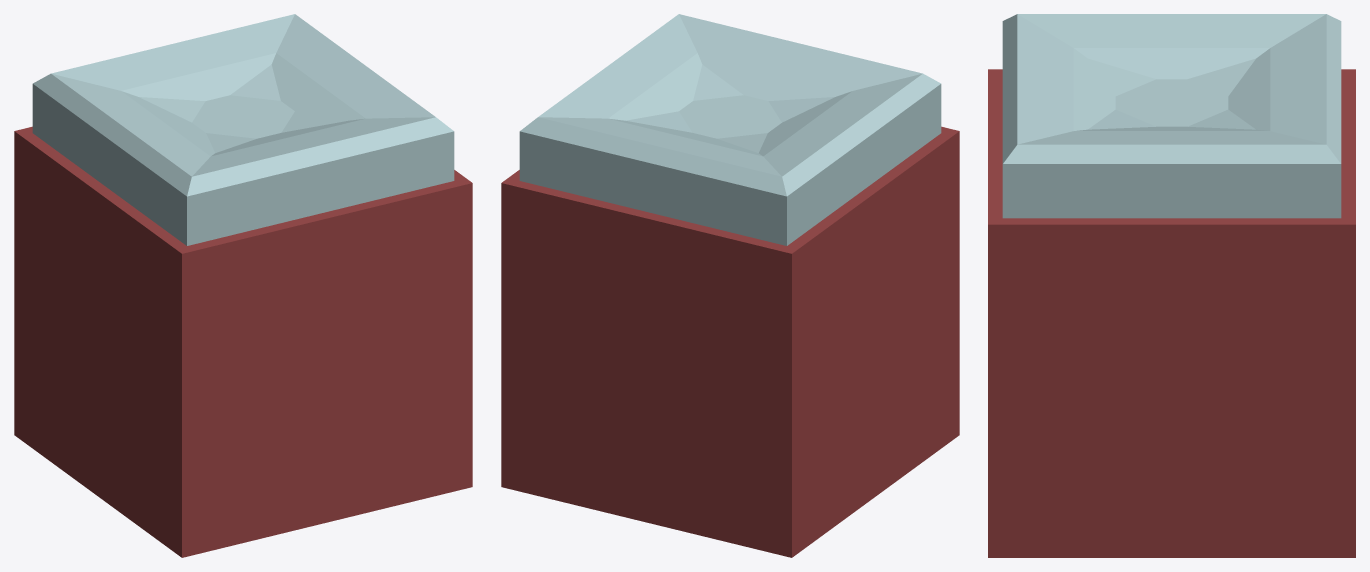
File: Cue Chalk.FBX
The picture shows the model from 3 angles, left to right: view 1: azimuth 30°, elevation 25°; view 2: azimuth 150°, elevation 25°; view 3: azimuth 270°, elevation 25°; orthographic projection. The views are drawn at different scales.
Parts seen in each view (by area): view 1: ChalkBox; view 2: ChalkBox; view 3: ChalkBox.
Boxes of the visible parts, left/top/right/bottom form: ChalkBox: left=14, top=14, right=472, bottom=557; ChalkBox: left=501, top=14, right=959, bottom=557; ChalkBox: left=988, top=14, right=1355, bottom=557.
Bounding box in the file's own units: 92.72 × 112 × 92.72.
